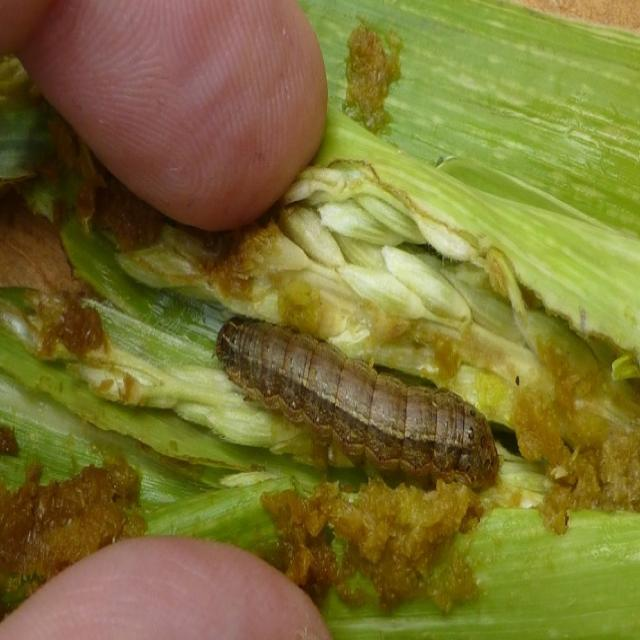army worm: (192, 287, 527, 502)
